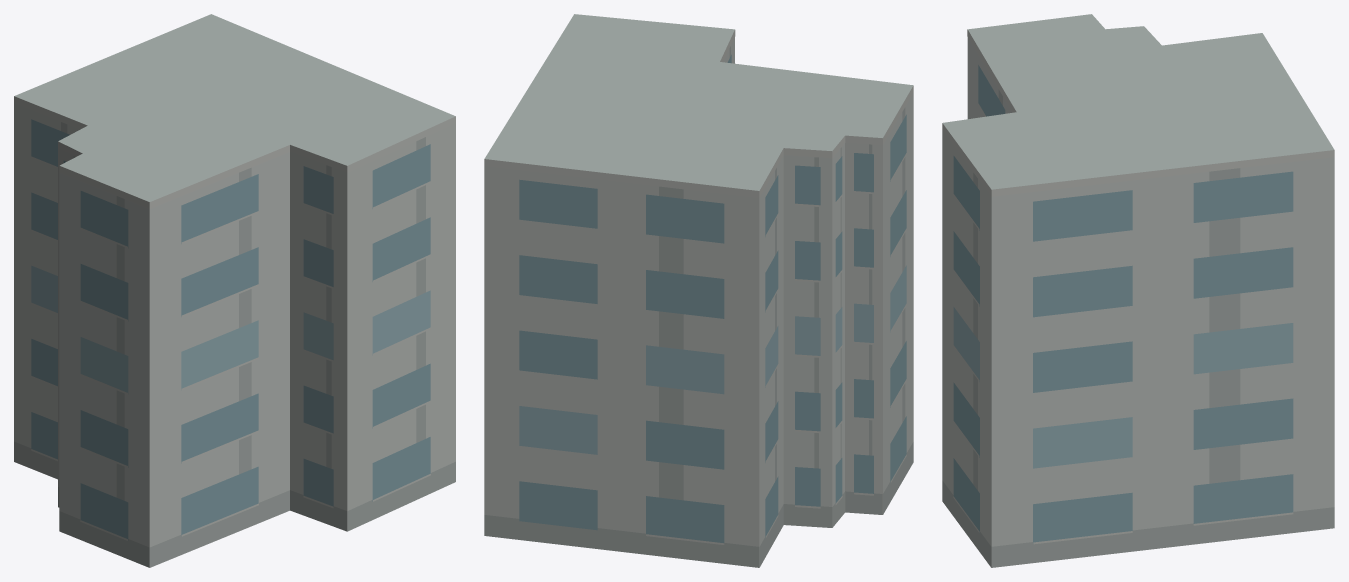
The model's file is survey-upis-32866099.glb.
3 views of the same model, side by side, from view 1: azimuth 30°, elevation 25°; view 2: azimuth 150°, elevation 25°; view 3: azimuth 270°, elevation 25° (orthographic). The views are drawn at different scales.
Visible parts, largest first — view 1: survey-upis-32866099.tmp; view 2: survey-upis-32866099.tmp; view 3: survey-upis-32866099.tmp.
Part boxes in pixels (bbox=[...]): survey-upis-32866099.tmp: bbox=[14, 14, 455, 567]; survey-upis-32866099.tmp: bbox=[484, 14, 913, 567]; survey-upis-32866099.tmp: bbox=[942, 14, 1334, 567].
Bounding box in the file's own units: 12.74 × 12.78 × 12.02.
